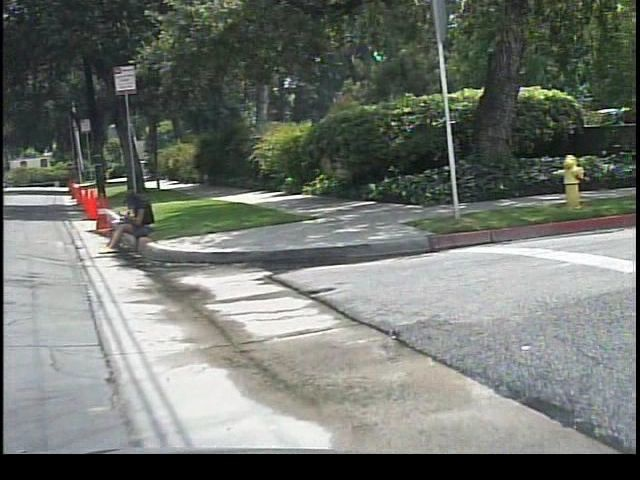person: (104, 186, 165, 254)
